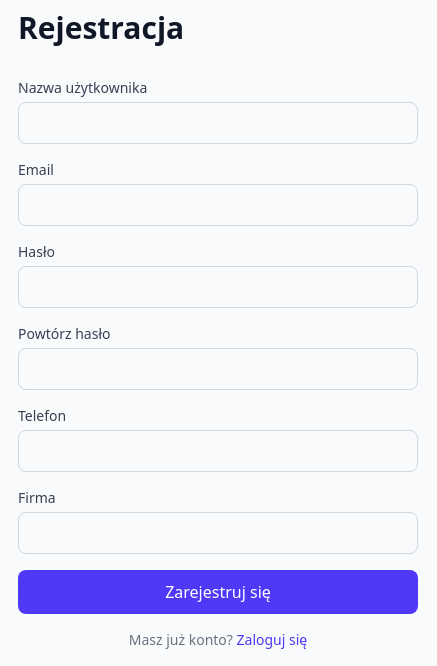
Scenario: RegisterPage — interactions › disables button while loading
Type "u" into the field labelled "Nazwa użytkownika" at (218, 123), box [18,102,418,144]
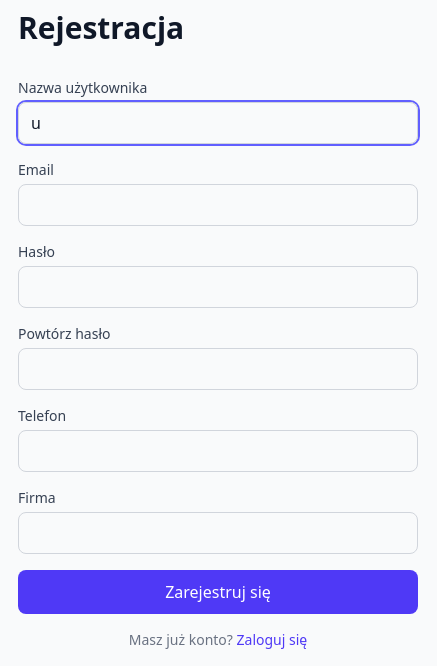
Type "u@u.pl" into the field labelled "Email" at (218, 205), box [18,184,418,226]
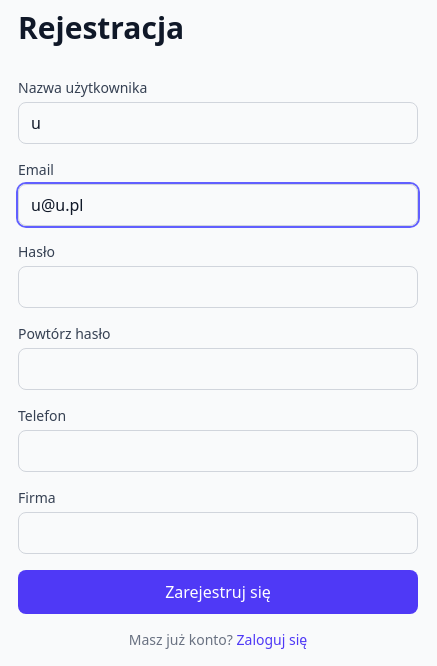
Type "P123!" into the password field labelled "Hasło" at (218, 287), box [18,266,418,308]
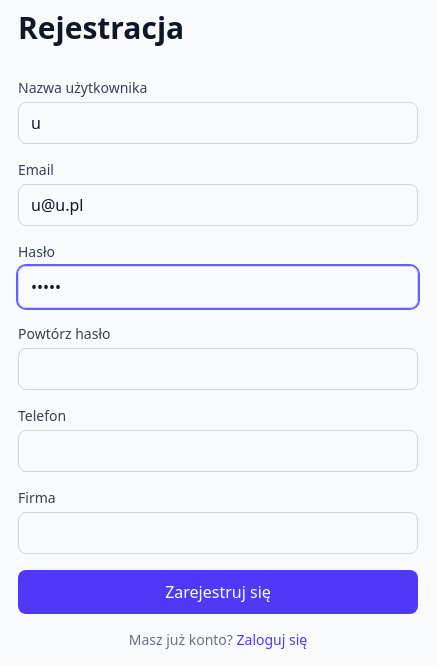
Type "P123!" into the password field labelled "Powtórz hasło" at (218, 369), box [18,348,418,390]
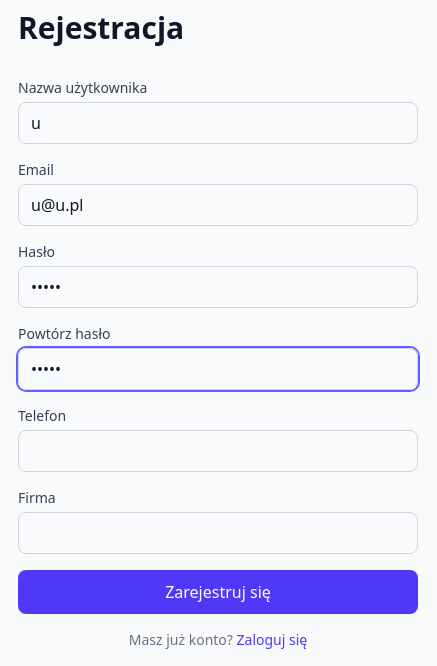
Click the button "Zarejestruj się" at (218, 592), box [18,570,418,614]
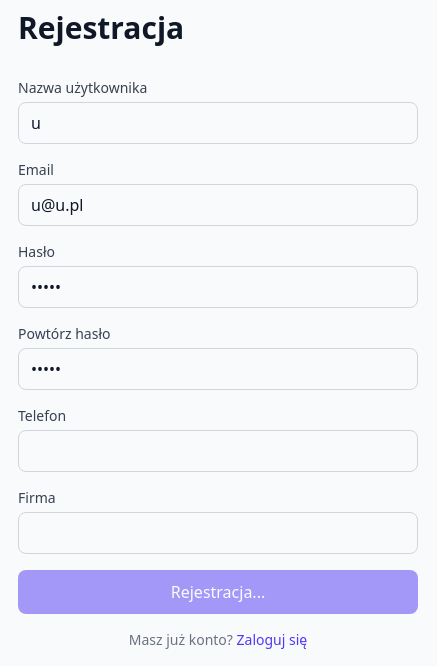
Check: the button "Rejestracja..." is disabled, box [18,570,418,614]
